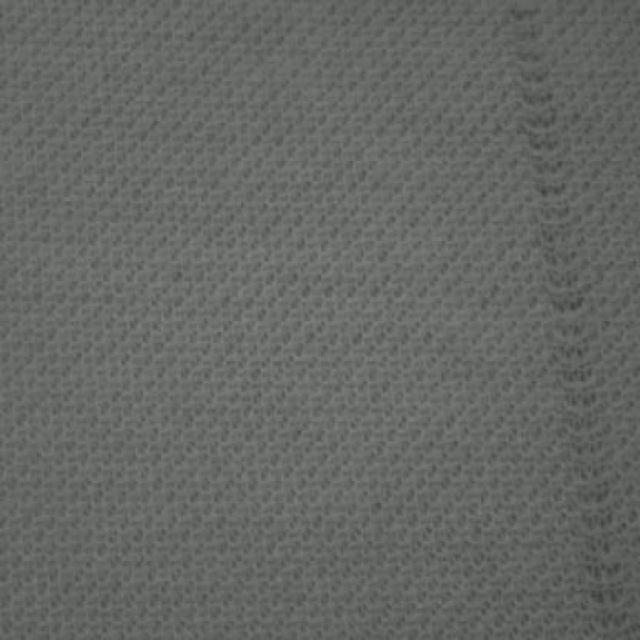Line: (505, 3, 631, 636)
